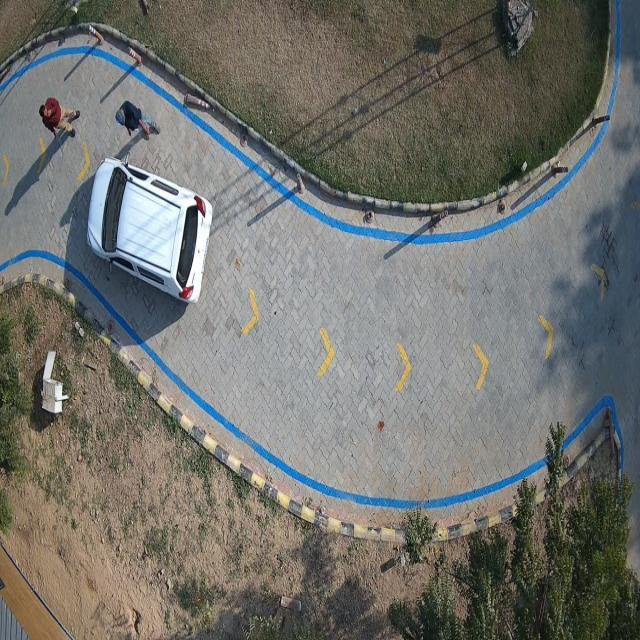car: (88, 158, 212, 302)
